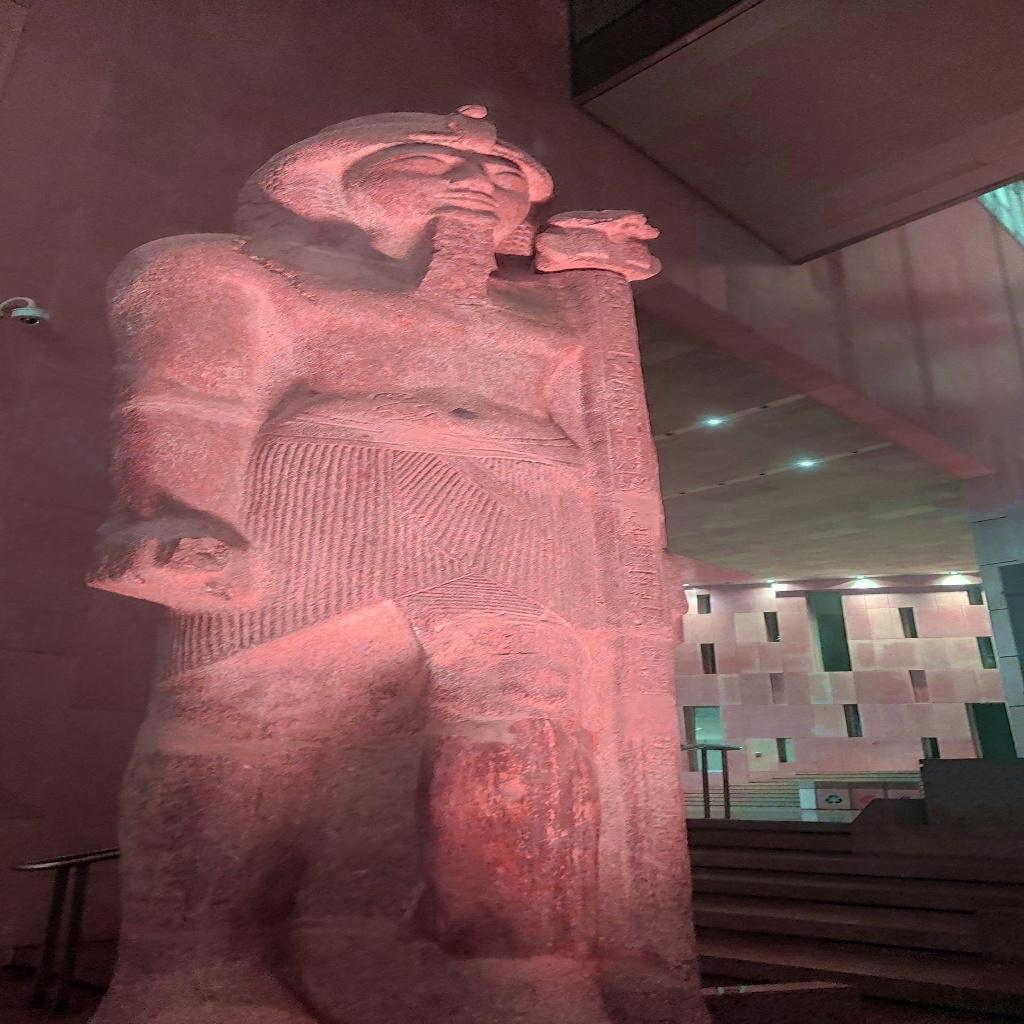Statue of Ramesses III as standard Bearer: (80, 102, 711, 1021)
